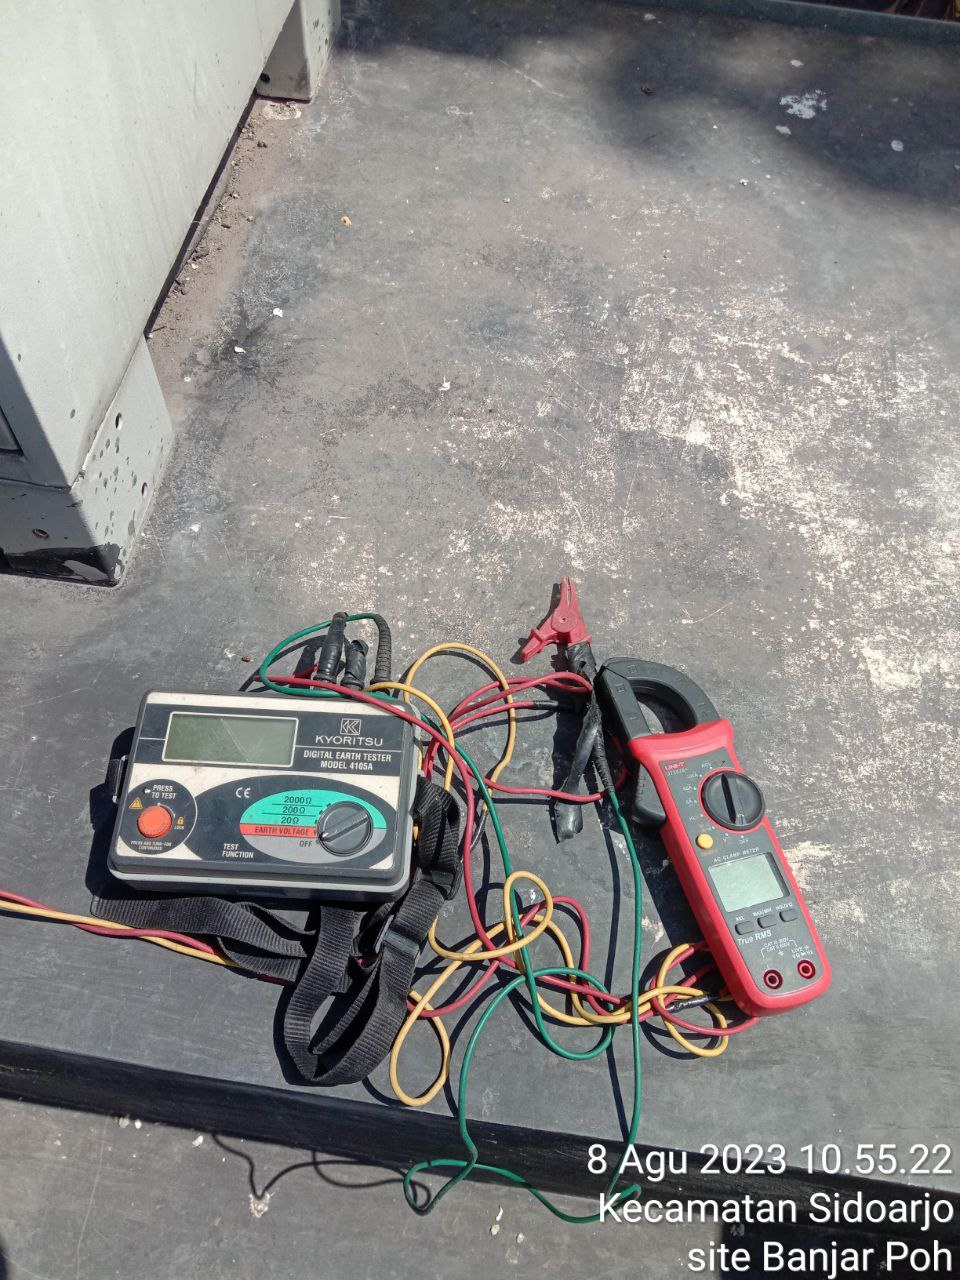EARTH_GROUNDING_TESTER: (98, 682, 419, 906)
TANG_AMPERE: (598, 656, 835, 1014)
